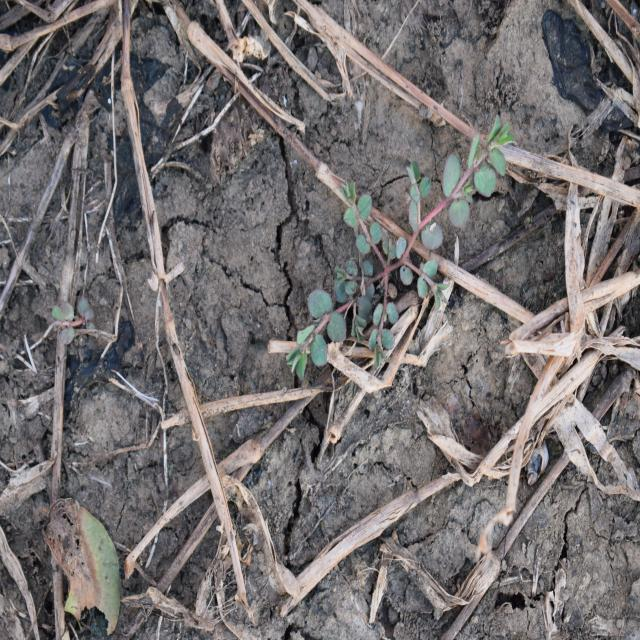SpottedSpurge: (284, 114, 520, 384), (52, 297, 96, 348)
